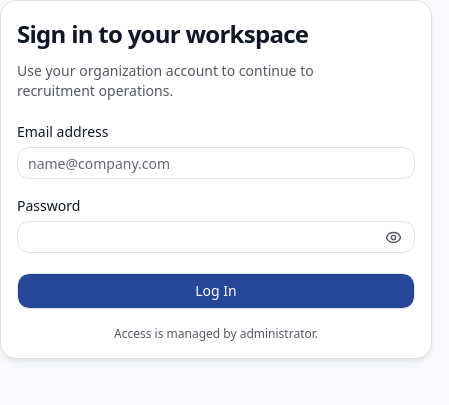
Test: LoginForm › rejects an invalid email address
Type "not-an-email" into the field labelled "Email address". click: (216, 163)
box: x1=17 y1=147 x2=415 y2=179
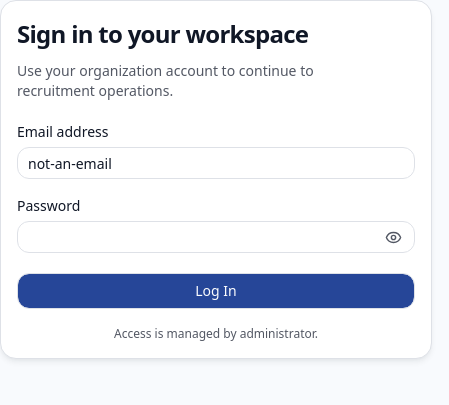
Type "password123" into the password field labelled "Password". click: (216, 237)
box: x1=17 y1=221 x2=415 y2=253
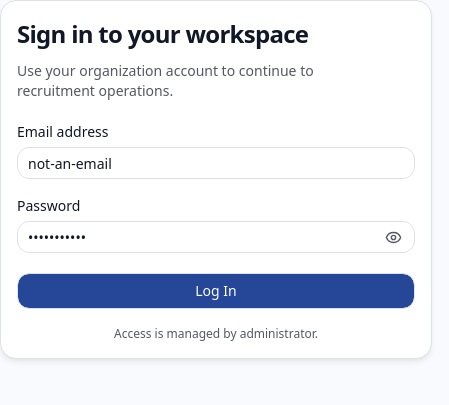
Click the button "Log In". click: click(216, 291)
box: x1=17 y1=273 x2=415 y2=309
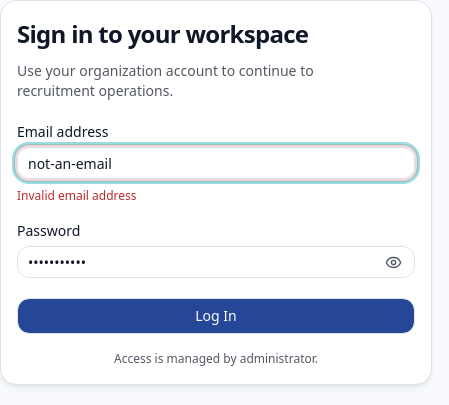
Now the text "Invalid email address" is shown, box x1=17 y1=187 x2=136 y2=204
